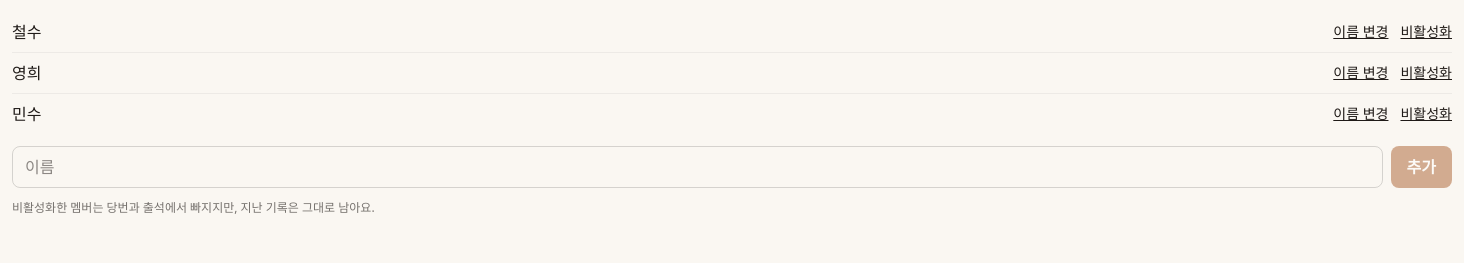
MemberManager › keeps the name and shows the error when adding fails
Type "철수" into the field named "새 멤버 이름" at (697, 167), box [12,146,1382,188]
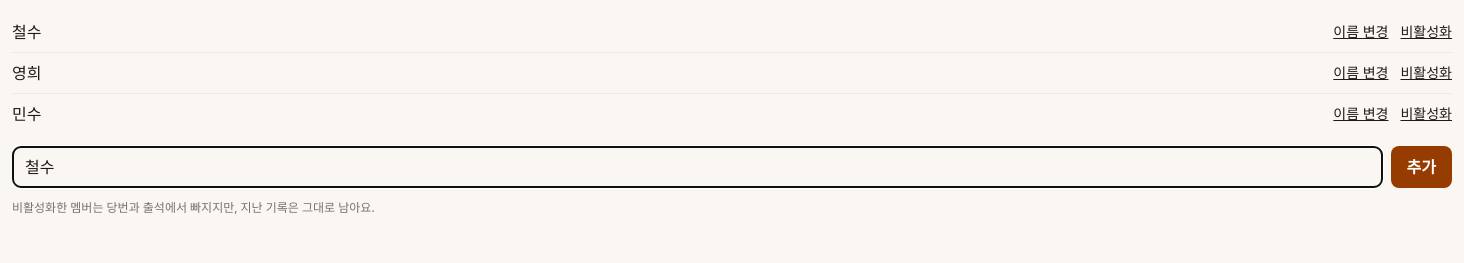
Click the button "추가" at (1421, 167), box [1390,146,1452,188]
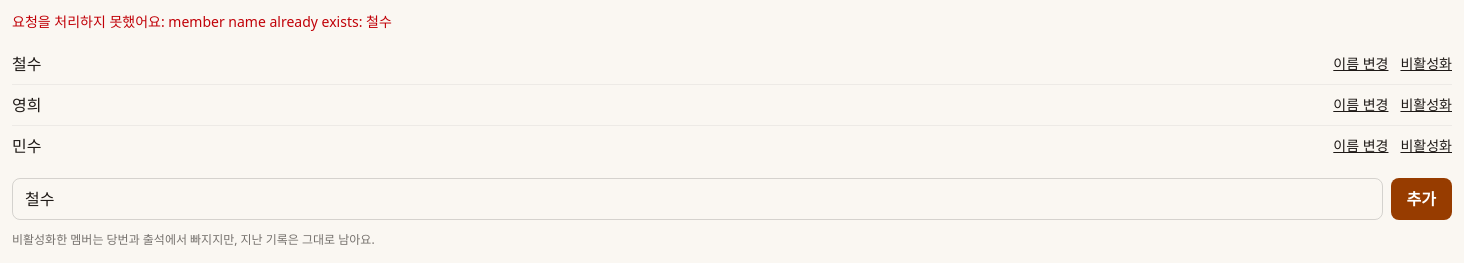
Now the message shows "already exists", box [12,12,392,31]
